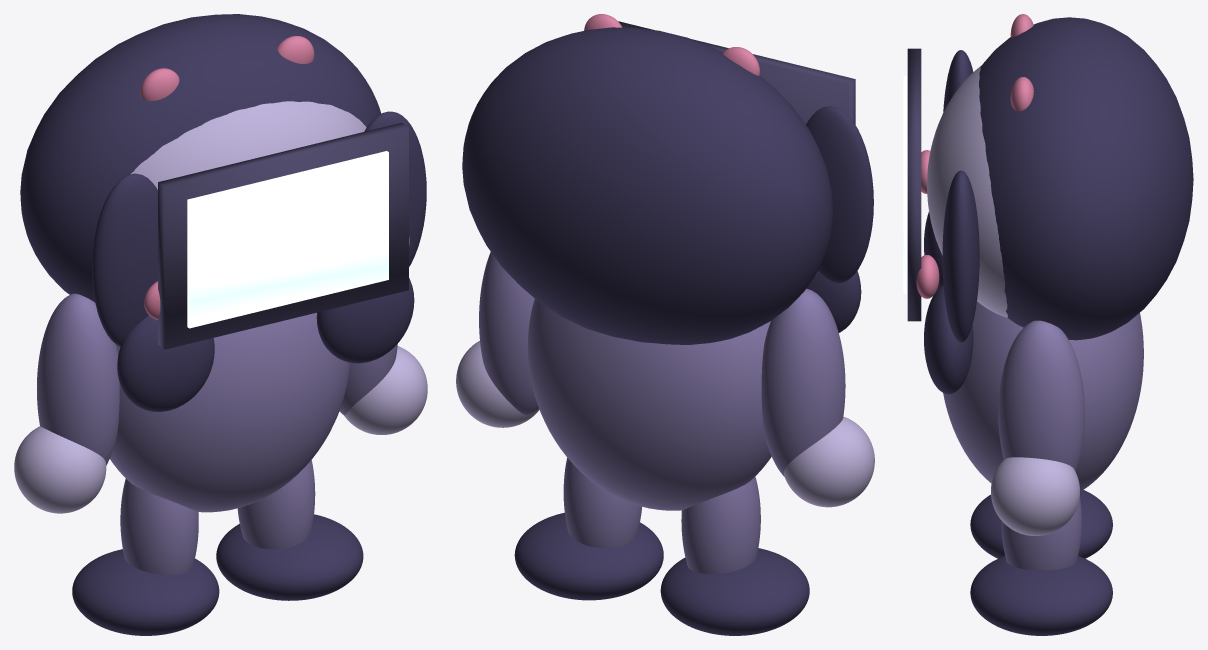
The model's file is shy.glb.
The picture shows the model from 3 angles, left to right: view 1: azimuth 30°, elevation 25°; view 2: azimuth 150°, elevation 25°; view 3: azimuth 270°, elevation 25°; orthographic projection. The views are drawn at different scales.
Visible parts, largest first — view 1: hood_shell, body, face_screen, face_frame, arm_L, head, foot_L, hood_flap_L, foot_R, hand_cover_L, hand_L, leg_L (+7 smaller); view 2: hood_shell, body, arm_L, foot_L, foot_R, hood_flap_L, arm_R, leg_L, hand_L, leg_R, face_frame, hand_R (+2 smaller); view 3: hood_shell, body, arm_R, foot_R, head, hand_R, hood_flap_R, face_frame, hand_cover_R, leg_R, foot_L, face_screen (+4 smaller).
Part boxes in pixels (<box>): hood_shell: <box>20,14,380,302</box>; body: <box>110,312,349,512</box>; face_screen: <box>187,151,388,328</box>; face_frame: <box>158,122,408,349</box>; arm_L: <box>37,293,119,465</box>; head: <box>130,101,366,189</box>; foot_L: <box>72,549,219,635</box>; hood_flap_L: <box>92,173,157,346</box>; foot_R: <box>216,514,363,600</box>; hand_cover_L: <box>117,315,214,411</box>; hand_L: <box>14,426,106,513</box>; leg_L: <box>120,478,198,574</box>; hood_shell: <box>462,27,832,344</box>; body: <box>527,299,771,510</box>; arm_L: <box>761,288,845,476</box>; foot_L: <box>660,548,809,635</box>; foot_R: <box>514,513,663,600</box>; hood_flap_L: <box>806,106,873,282</box>; arm_R: <box>479,252,538,415</box>; leg_L: <box>681,476,760,574</box>; hand_L: <box>784,416,874,507</box>; leg_R: <box>563,458,641,548</box>; face_frame: <box>618,21,855,124</box>; hand_R: <box>456,340,539,427</box>; hood_shell: <box>979,17,1193,340</box>; body: <box>943,301,1143,491</box>; arm_R: <box>998,320,1084,471</box>; foot_R: <box>970,556,1112,635</box>; head: <box>927,65,1007,317</box>; hand_R: <box>991,457,1079,535</box>; hood_flap_R: <box>942,170,979,342</box>; face_frame: <box>907,48,921,321</box>; hand_cover_R: <box>924,285,973,394</box>; leg_R: <box>1001,496,1081,570</box>; foot_L: <box>970,490,1112,558</box>; face_screen: <box>903,76,906,293</box>.
Bounding box in the file's own units: 0.7979 × 1.08 × 0.5158.
